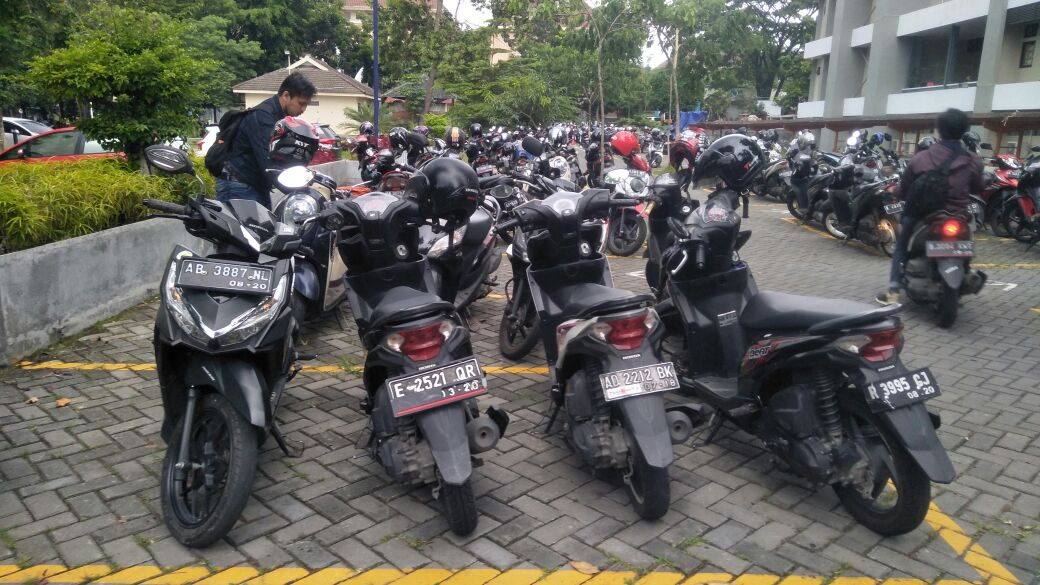plate: (387, 356, 486, 409), (179, 258, 272, 296), (865, 368, 941, 408), (600, 366, 680, 395), (926, 239, 977, 256)
